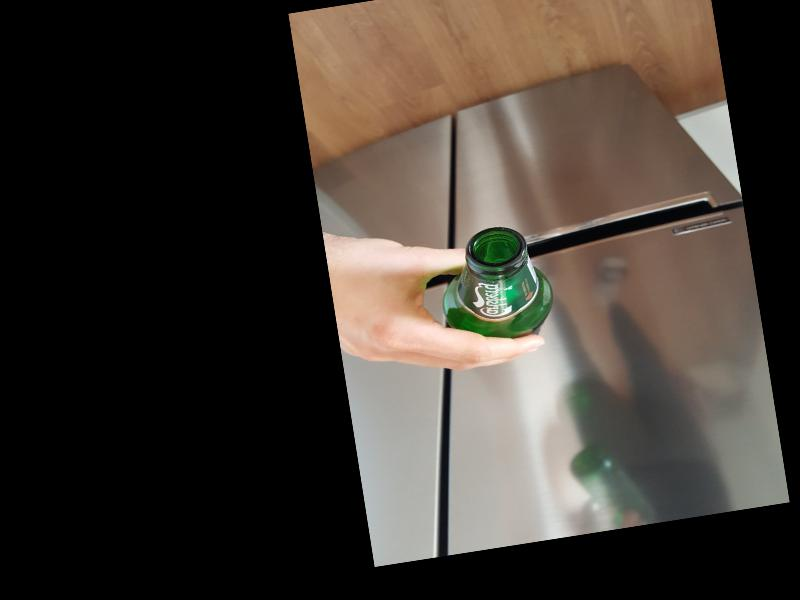Beer: (435, 219, 557, 348)
